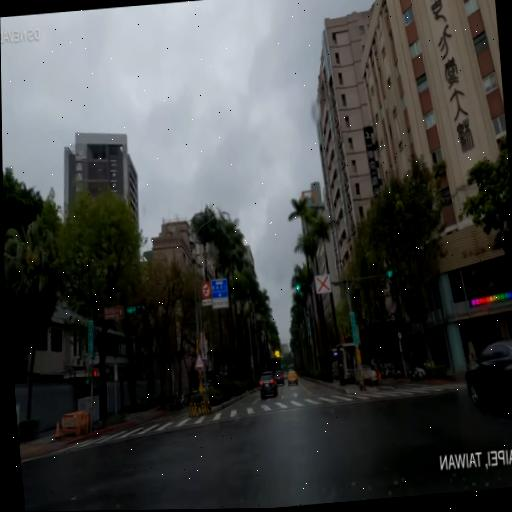Car: (463, 333, 512, 428), (258, 368, 280, 400), (274, 367, 285, 388), (287, 369, 299, 387), (282, 370, 288, 381)
